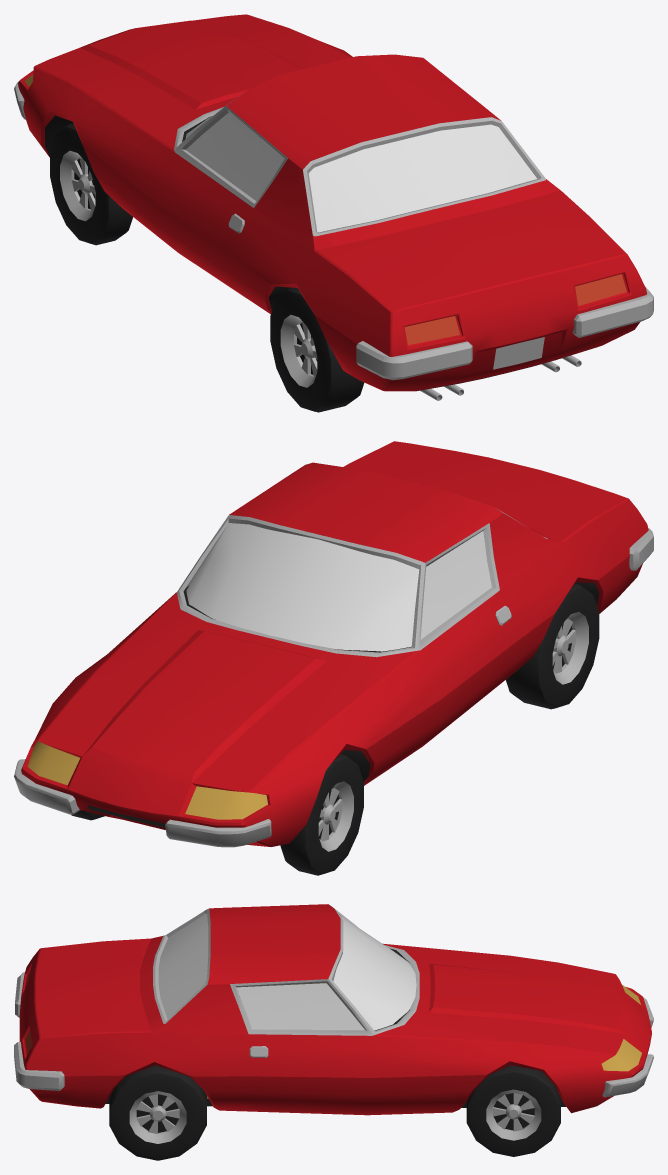
The model's file is sports-car.car-v2.lod0.glb.
3 views of the same model, one above another, from view 1: azimuth 30°, elevation 25°; view 2: azimuth 150°, elevation 25°; view 3: azimuth 270°, elevation 25° (orthographic). The views are drawn at different scales.
Parts seen in each view (by area): view 1: CarBody_body_0, CarBody_metal_0; view 2: CarBody_body_0, CarBody_metal_0; view 3: CarBody_body_0, CarBody_metal_0.
Boxes of the visible parts, x1=… form: CarBody_body_0: x1=18, y1=14, x2=646, y2=412; CarBody_metal_0: x1=14, y1=81, x2=653, y2=400; CarBody_body_0: x1=21, y1=441, x2=648, y2=875; CarBody_metal_0: x1=14, y1=509, x2=653, y2=851; CarBody_body_0: x1=19, y1=904, x2=651, y2=1160; CarBody_metal_0: x1=14, y1=905, x2=653, y2=1143.
Size of the model in its own units: 1.81 by 1.37 by 4.5.
